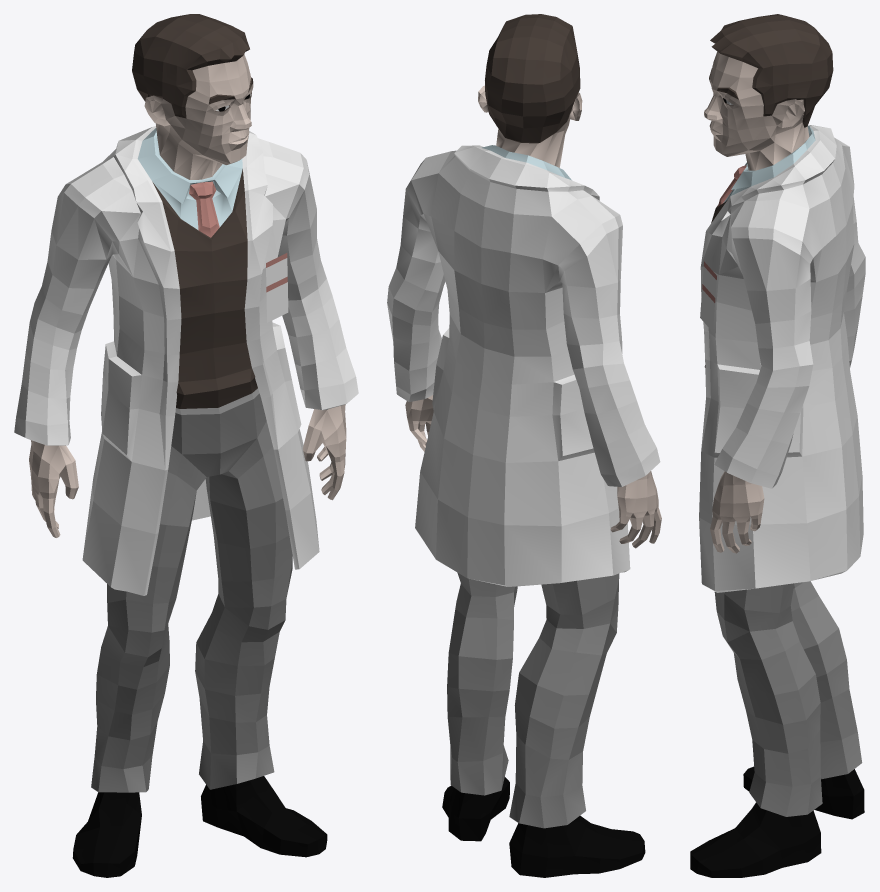
Rendered from RyanChoi.fbx.
3 renders of one model, left to right at view 1: azimuth 30°, elevation 25°; view 2: azimuth 150°, elevation 25°; view 3: azimuth 270°, elevation 25°, orthographic. The views are drawn at different scales.
Parts seen in each view (by area): view 1: RyanChoi.obj; view 2: RyanChoi.obj; view 3: RyanChoi.obj.
Boxes of the visible parts, x1,y1,x2,y2 form: RyanChoi.obj: [14, 14, 358, 877]; RyanChoi.obj: [387, 14, 661, 877]; RyanChoi.obj: [690, 14, 865, 877].
Size of the model in its own units: 67.94 by 180 by 35.32.
